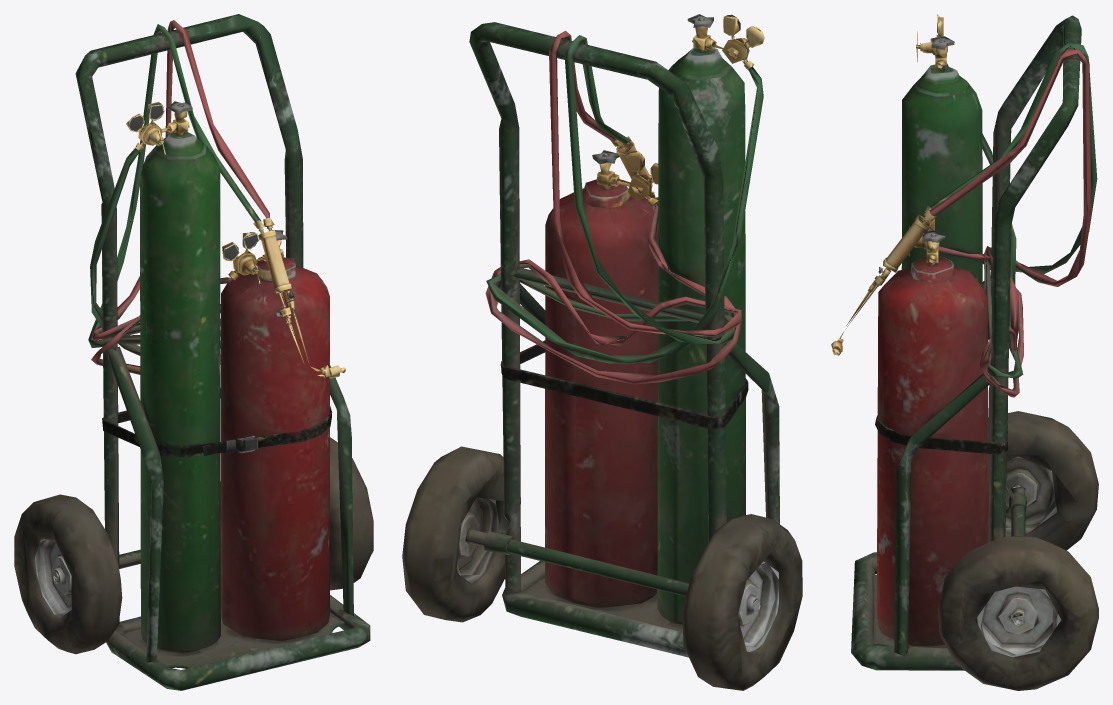
Rendered from welding_cart.glb.
3 renders of one model, left to right at view 1: azimuth 30°, elevation 25°; view 2: azimuth 150°, elevation 25°; view 3: azimuth 270°, elevation 25°, orthographic. The views are drawn at different scales.
Parts seen in each view (by area): view 1: portable_welding_cart; view 2: portable_welding_cart; view 3: portable_welding_cart.
Boxes of the visible parts, x1,y1,x2,y2 form: portable_welding_cart: (14, 14, 373, 690); portable_welding_cart: (402, 14, 802, 690); portable_welding_cart: (831, 14, 1098, 690).
Size of the model in its own units: 0.8365 by 1.56 by 0.6545.
Materials: 2 (2 with a texture image).
